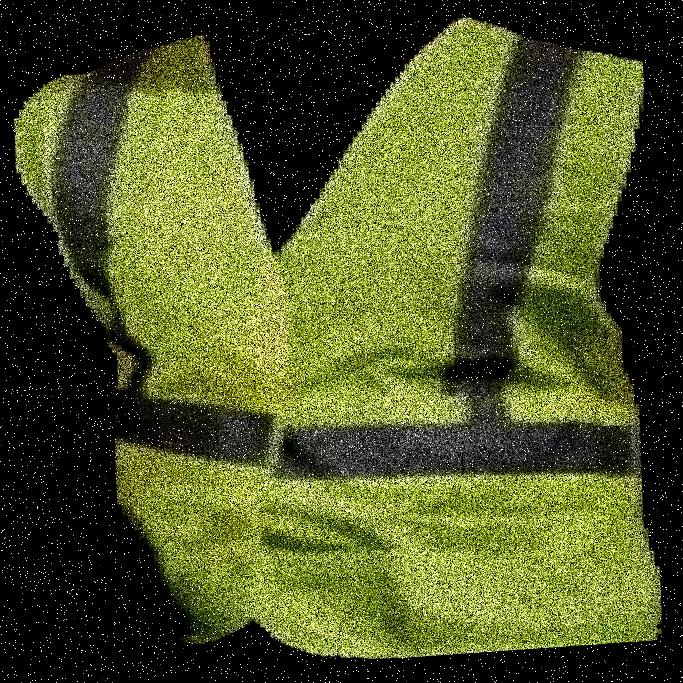Colete: (329, 0, 638, 682)
